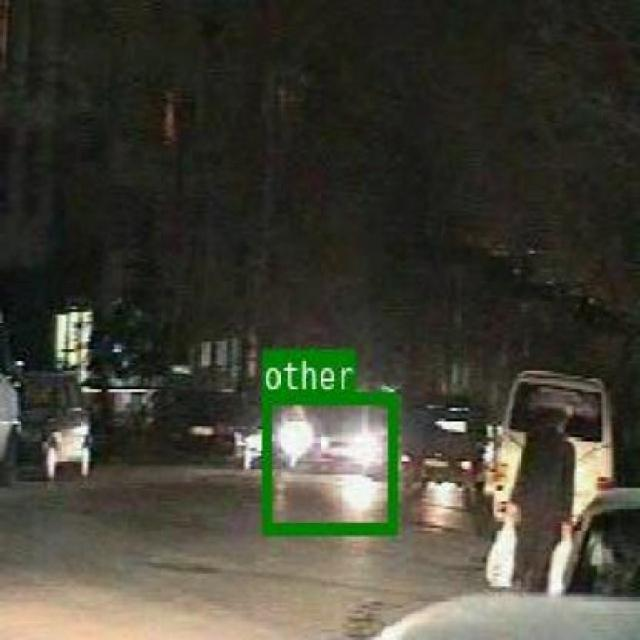other: (260, 389, 396, 531)
